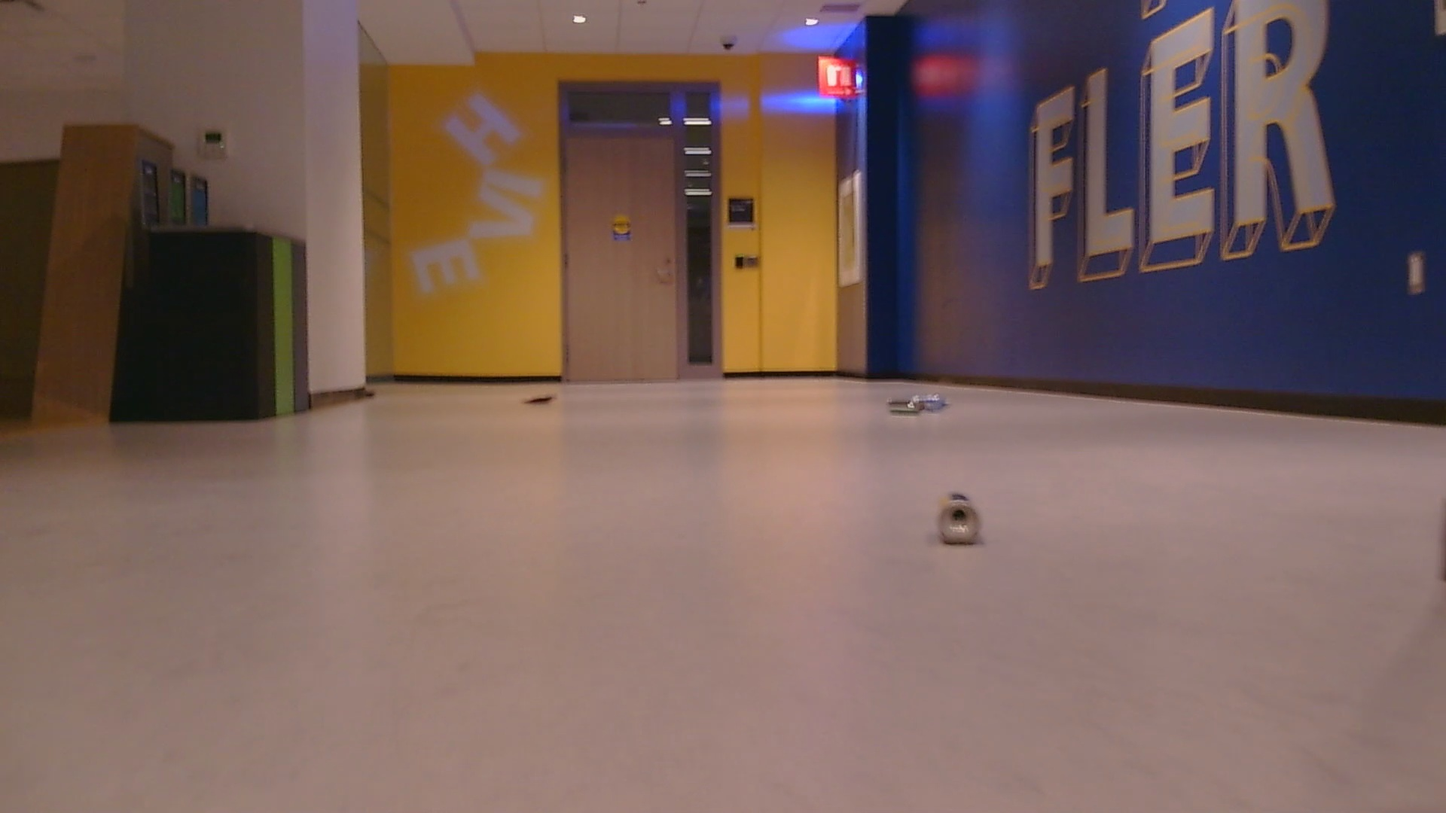can: (937, 493, 977, 544), (889, 394, 947, 413), (523, 394, 556, 404)
